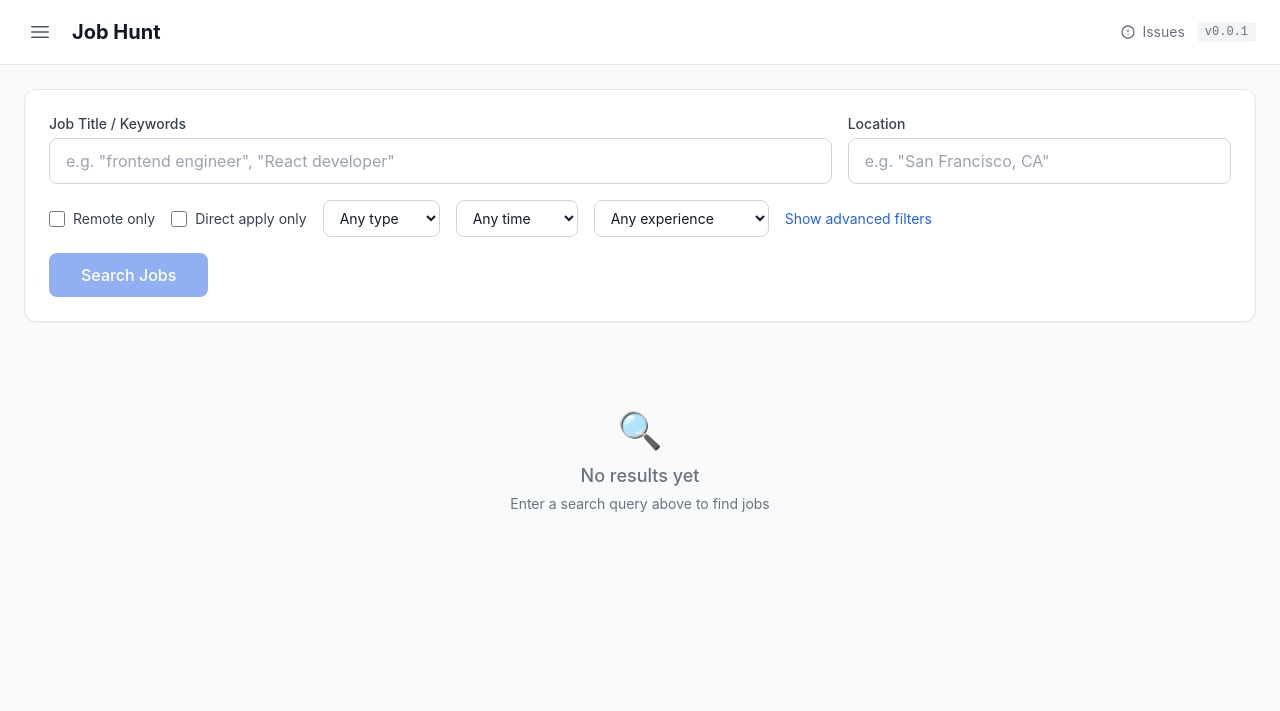
Test case: App › switches to settings view via sidebar
The width and height of the screenshot is (1280, 711).
Click the button with test id "hamburger-button" at (40, 32), box [24, 16, 56, 48]
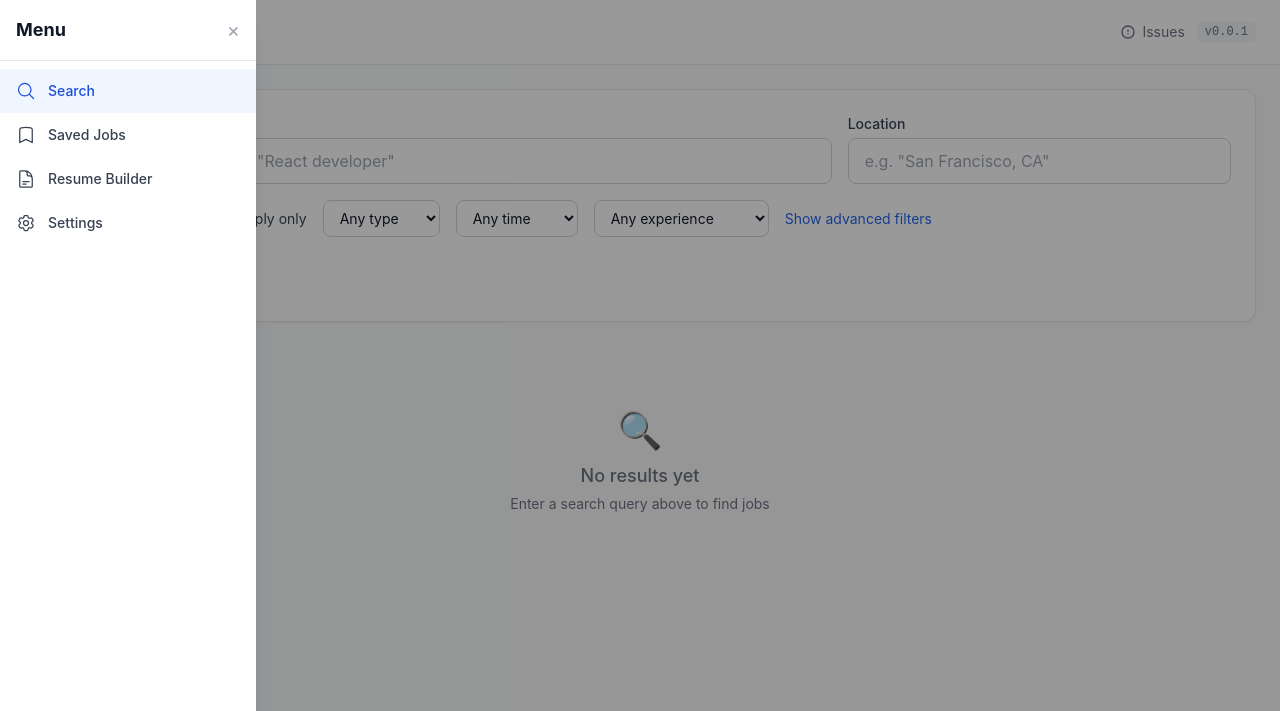
Click the button "Settings" at (128, 223), box [0, 201, 256, 245]
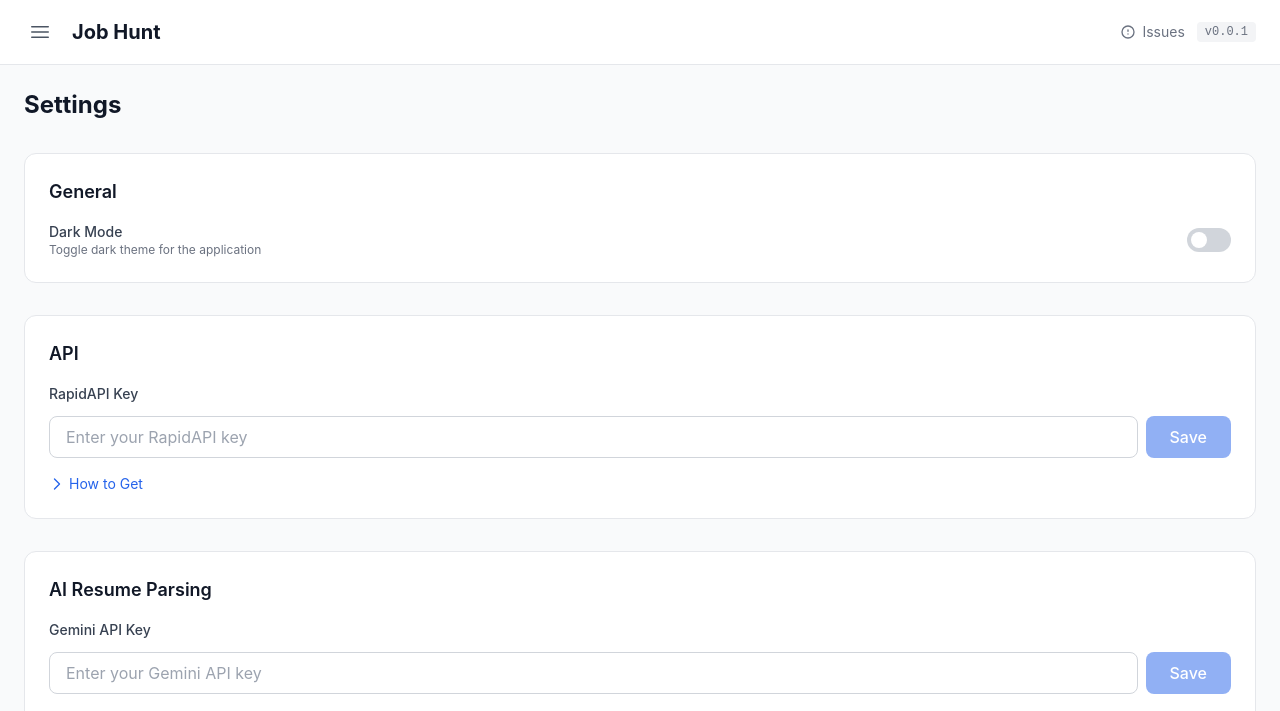
Check: the heading "General" is shown, box [49, 181, 117, 202]
Check: the heading "API" is shown, box [49, 343, 79, 364]
